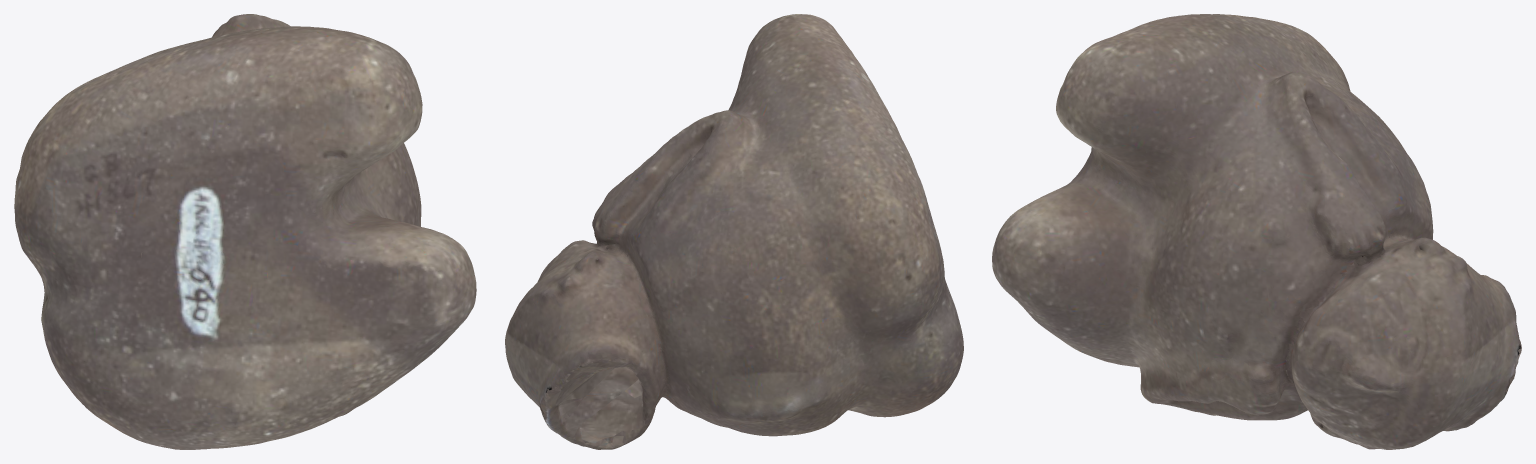
File: Ark_HM_640_HI.glb
The picture shows the model from 3 angles, left to right: view 1: azimuth 30°, elevation 25°; view 2: azimuth 150°, elevation 25°; view 3: azimuth 270°, elevation 25°; orthographic projection. The views are drawn at different scales.
Bounding box in the file's own units: 0.4345 × 0.3816 × 0.5017.
Materials: 1 (1 with a texture image).
